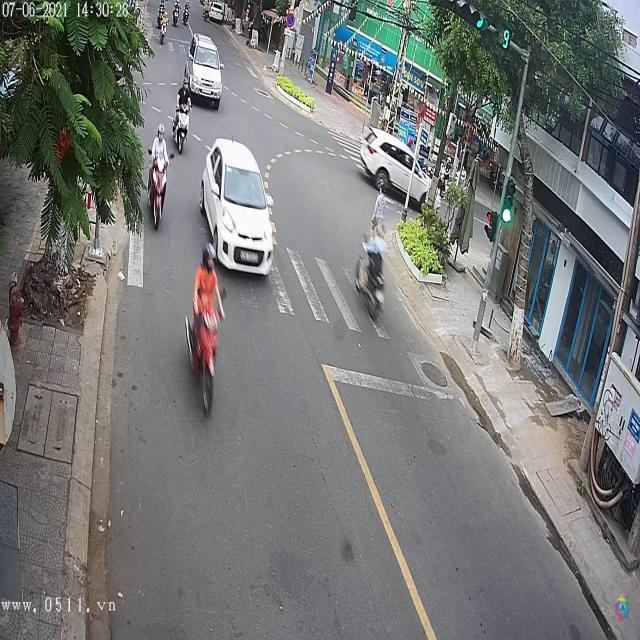car: (200, 140, 276, 274), (356, 124, 432, 206), (186, 33, 224, 111), (208, 4, 228, 24)
motorcycle: (183, 278, 228, 417), (145, 146, 173, 232), (172, 97, 193, 157), (159, 16, 169, 45)
